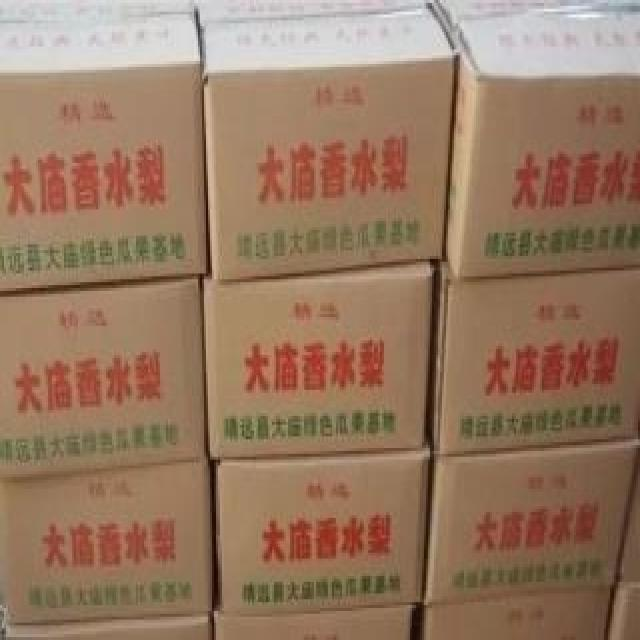box: (195, 3, 460, 278), (0, 1, 213, 293), (433, 3, 638, 279), (202, 262, 433, 457), (0, 274, 202, 477), (434, 260, 638, 454), (212, 450, 430, 618), (421, 440, 638, 606), (0, 458, 213, 623), (212, 567, 420, 637), (420, 592, 612, 637), (2, 614, 209, 637), (616, 457, 638, 587), (608, 588, 638, 637)
